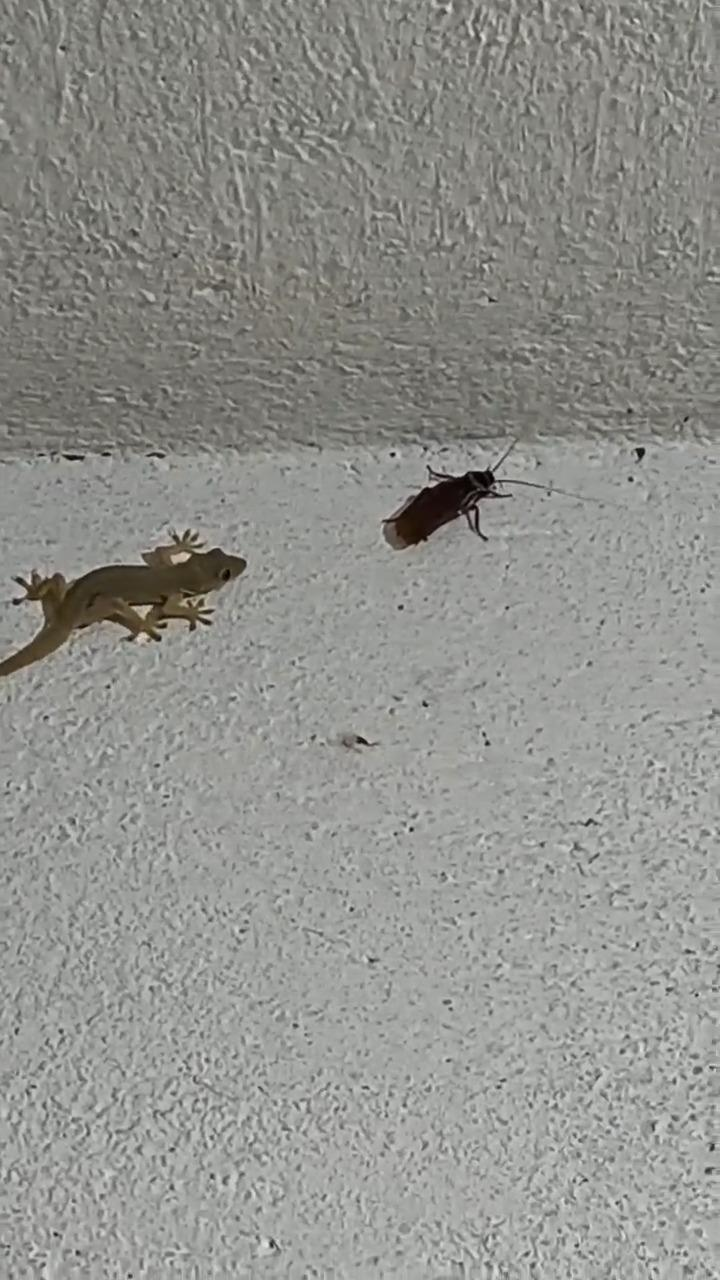cockroach: (368, 455, 533, 562)
lizard: (0, 513, 267, 682)
